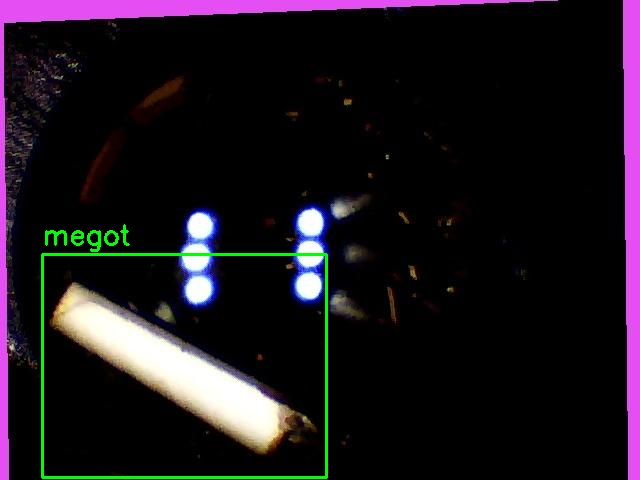megot: (42, 254, 326, 477)
